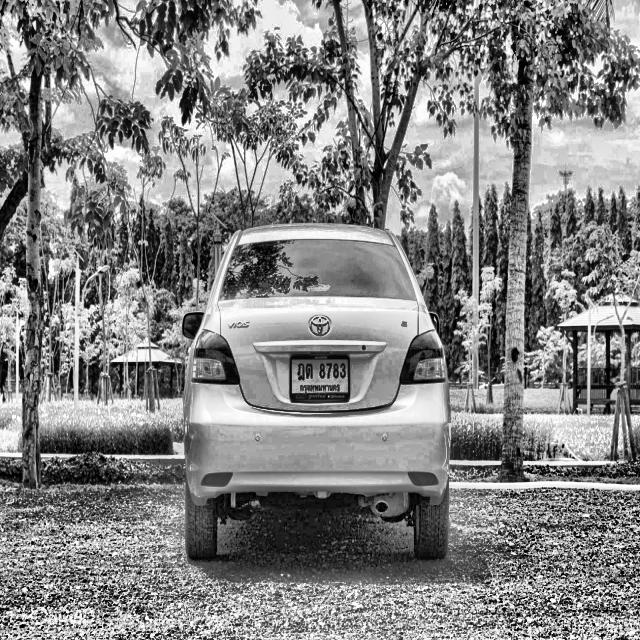license-plate: (289, 353, 351, 403)
